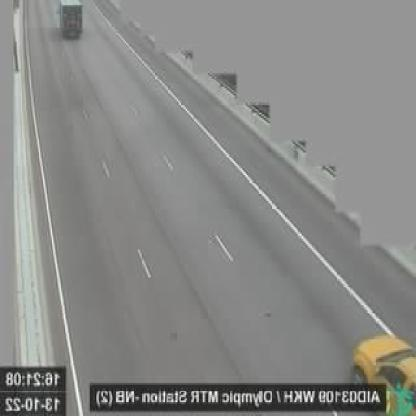Car: (349, 330, 415, 412)
Truck: (58, 0, 84, 40)
